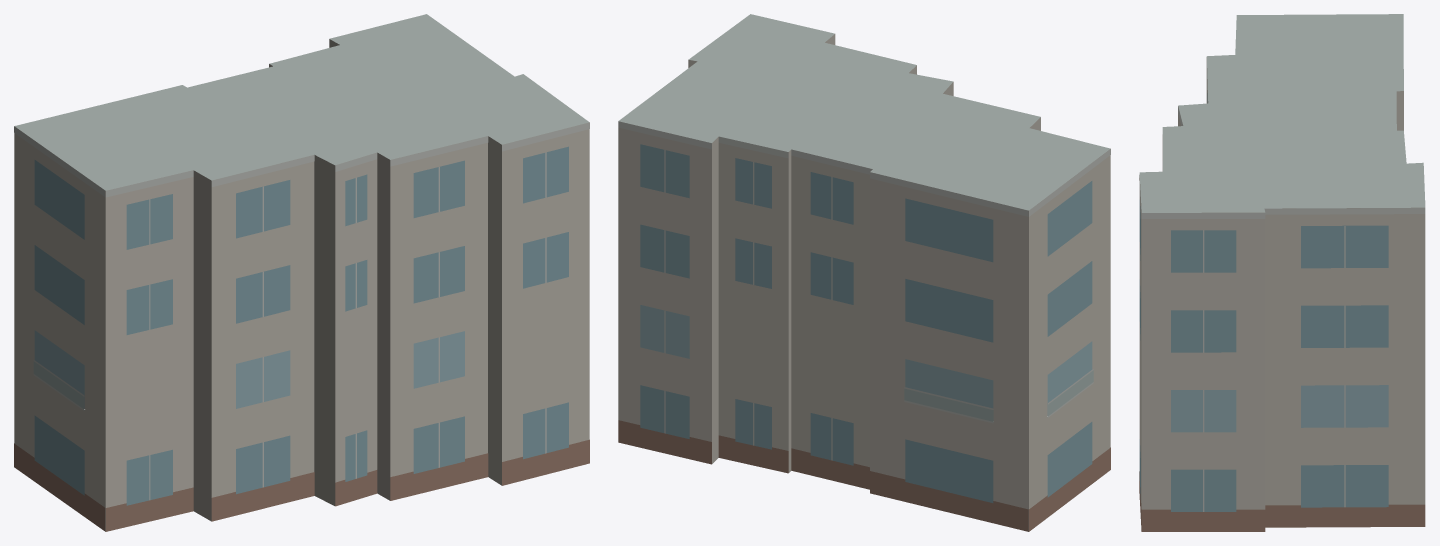
File: survey-upis-32814987.glb
3 views of the same model, side by side, from view 1: azimuth 30°, elevation 25°; view 2: azimuth 150°, elevation 25°; view 3: azimuth 270°, elevation 25° (orthographic). The views are drawn at different scales.
Parts seen in each view (by area): view 1: survey-upis-32814987.tmp; view 2: survey-upis-32814987.tmp; view 3: survey-upis-32814987.tmp.
Boxes of the visible parts, x1,y1,x2,y2 form: survey-upis-32814987.tmp: (14,14,589,531); survey-upis-32814987.tmp: (618,14,1110,531); survey-upis-32814987.tmp: (1139,14,1425,531).
Bounding box in the file's own units: 16.6 × 12.4 × 10.08.
